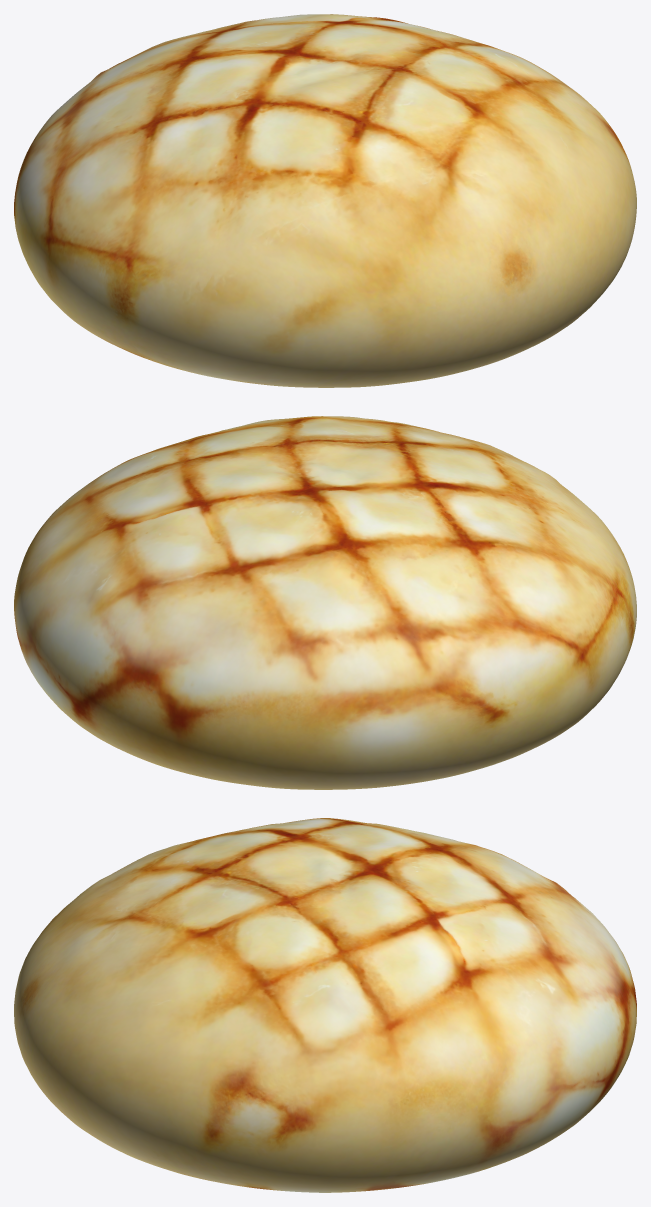
Rendered from Melon_Bread_Delight.fbx.
3 renders of one model, top to bottom at view 1: azimuth 30°, elevation 25°; view 2: azimuth 150°, elevation 25°; view 3: azimuth 270°, elevation 25°, orthographic.
Visible parts, largest first — view 1: Mesh1_Mesh1.007; view 2: Mesh1_Mesh1.007; view 3: Mesh1_Mesh1.007.
Boxes of the visible parts, left/top/right/bottom form: Mesh1_Mesh1.007: left=14, top=14, right=636, bottom=387; Mesh1_Mesh1.007: left=14, top=416, right=636, bottom=789; Mesh1_Mesh1.007: left=14, top=818, right=636, bottom=1192.
Bounding box in the file's own units: 200 × 80.64 × 200.
Materials: 1 (1 with a texture image).
